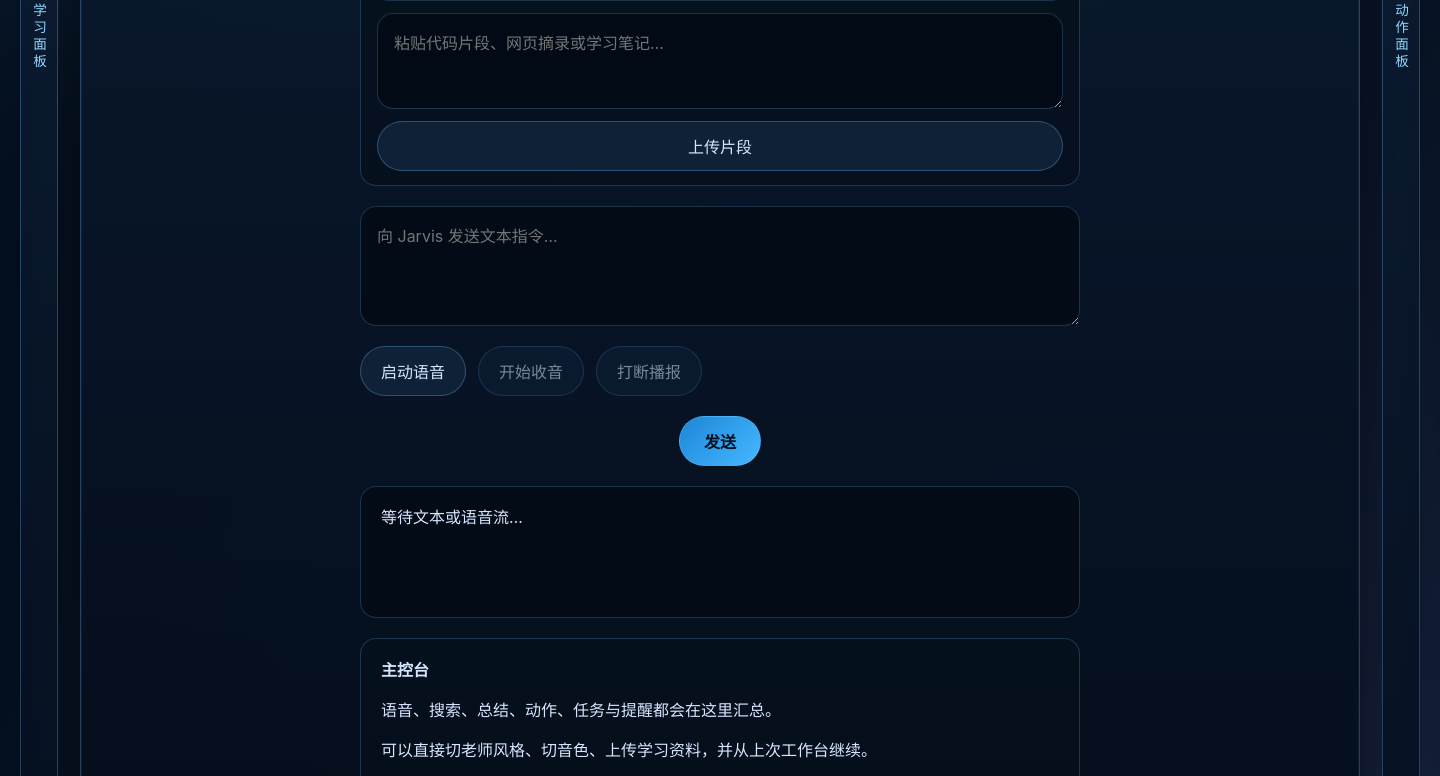
Test: push to talk start error surfaces error message and does not enter capturing state
(page scrolled)
Click the button "启动语音": (413, 371) [360, 346, 466, 396]
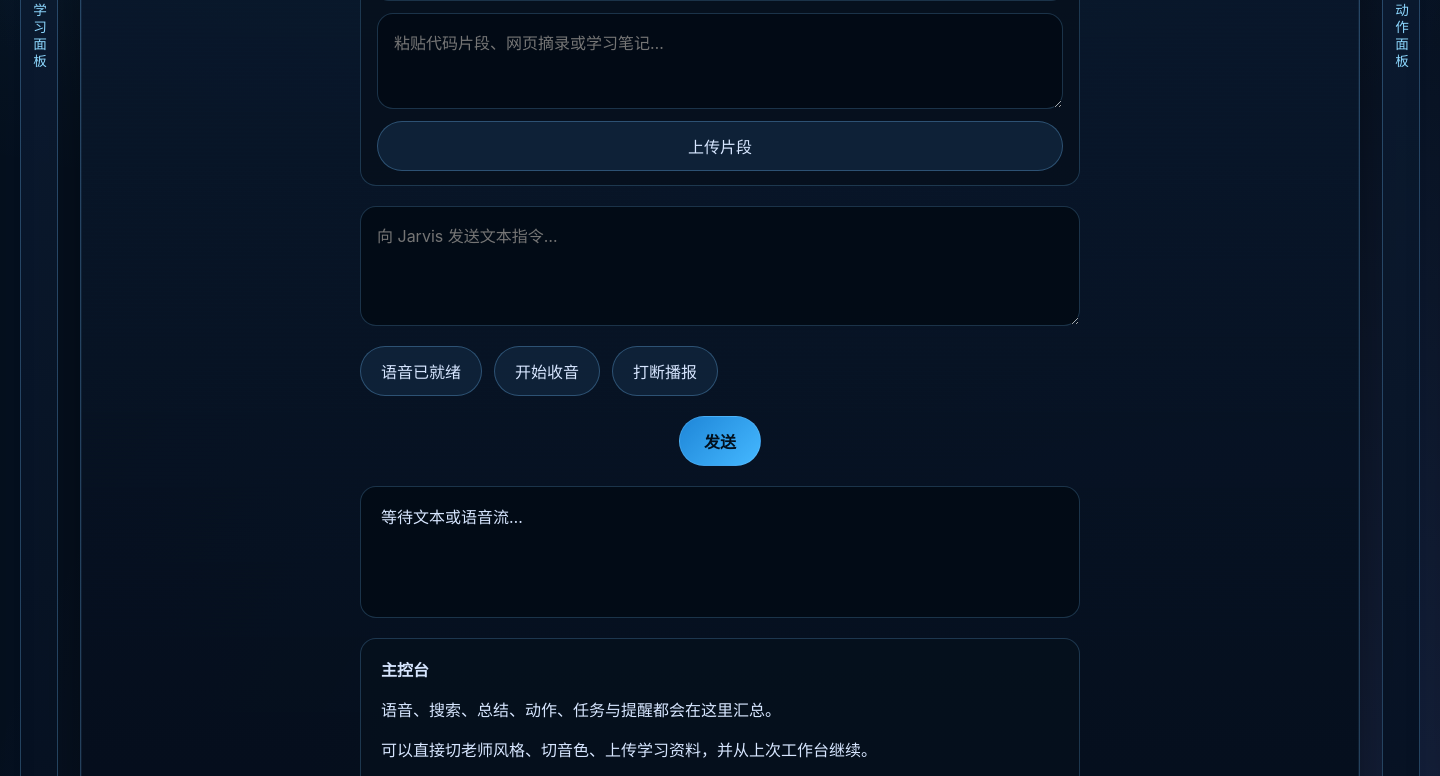
Check: the button "语音已就绪" is shown, box [360, 346, 482, 396]
Click the button "开始收音": (547, 371) [494, 346, 600, 396]
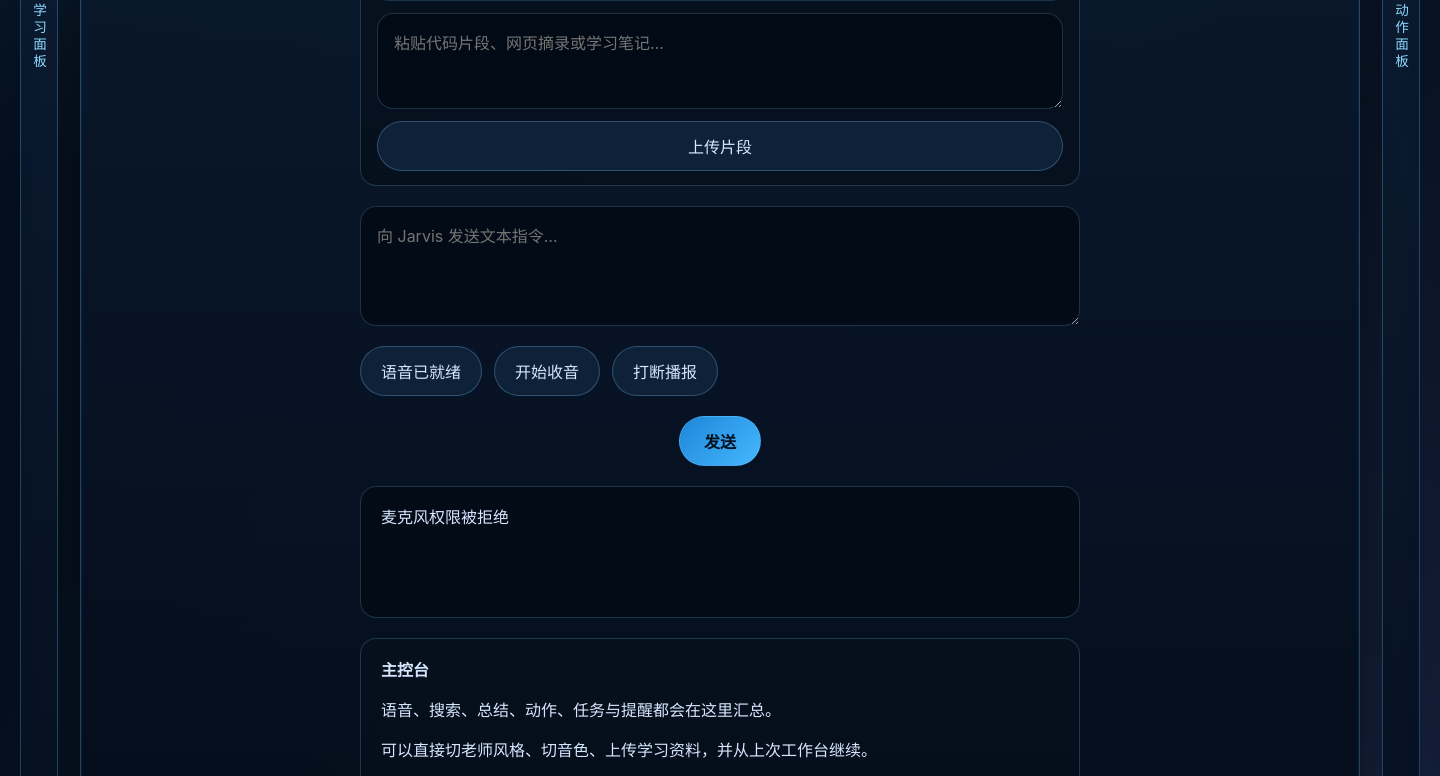
Check: the text "麦克风权限被拒绝" is shown, box [360, 486, 1080, 618]
